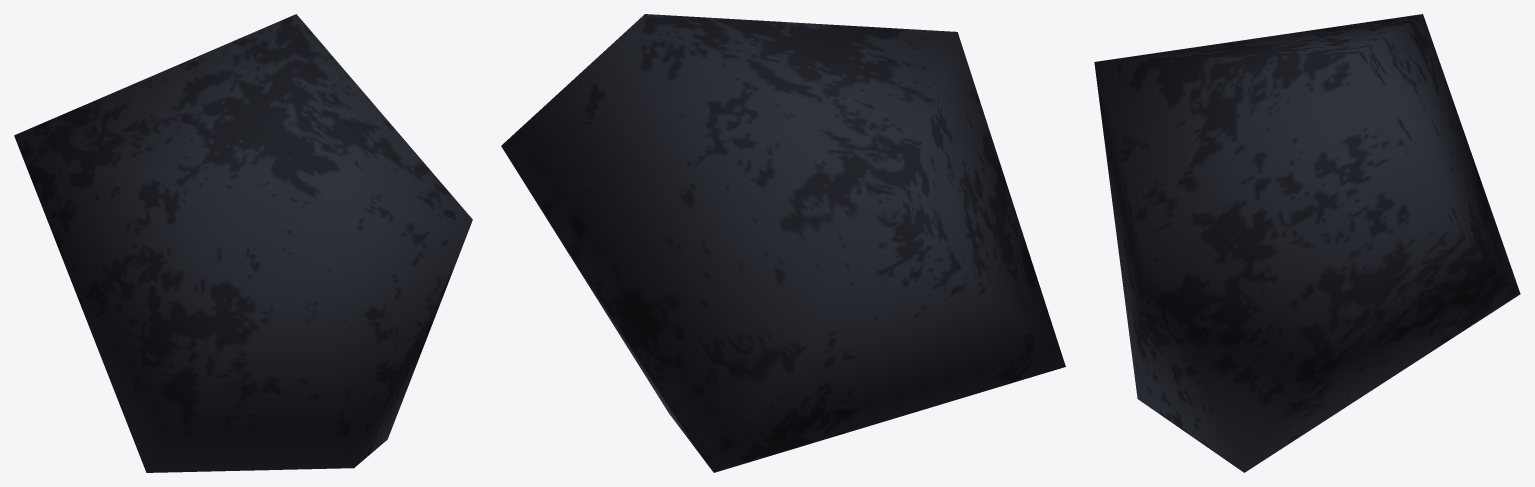
The model's file is Pebble.glb.
3 views of the same model, side by side, from view 1: azimuth 30°, elevation 25°; view 2: azimuth 150°, elevation 25°; view 3: azimuth 270°, elevation 25° (orthographic). The views are drawn at different scales.
Visible parts, largest first — view 1: Pebble; view 2: Pebble; view 3: Pebble.
Boxes of the visible parts, x1,y1,x2,y2 form: Pebble: [14, 14, 472, 472]; Pebble: [501, 14, 1065, 472]; Pebble: [1094, 14, 1520, 472].
Bounding box in the file's own units: 1.27 × 1.4 × 1.34.
1 material, 1 textured.
